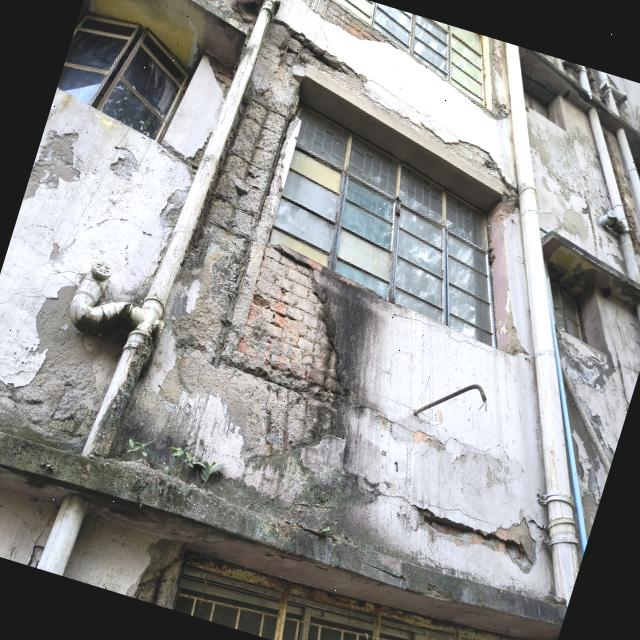crack: (397, 489, 540, 585)
peeling: (0, 249, 223, 507), (372, 95, 527, 199), (107, 108, 216, 252), (563, 336, 633, 520), (26, 115, 92, 209), (242, 155, 246, 158)
spalling: (56, 15, 378, 547), (225, 242, 364, 434), (156, 0, 247, 66), (316, 0, 395, 47)
stain_mould: (0, 398, 577, 624)
